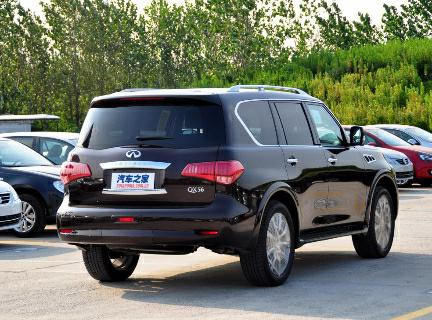英菲尼迪-QX: (49, 78, 406, 297)
